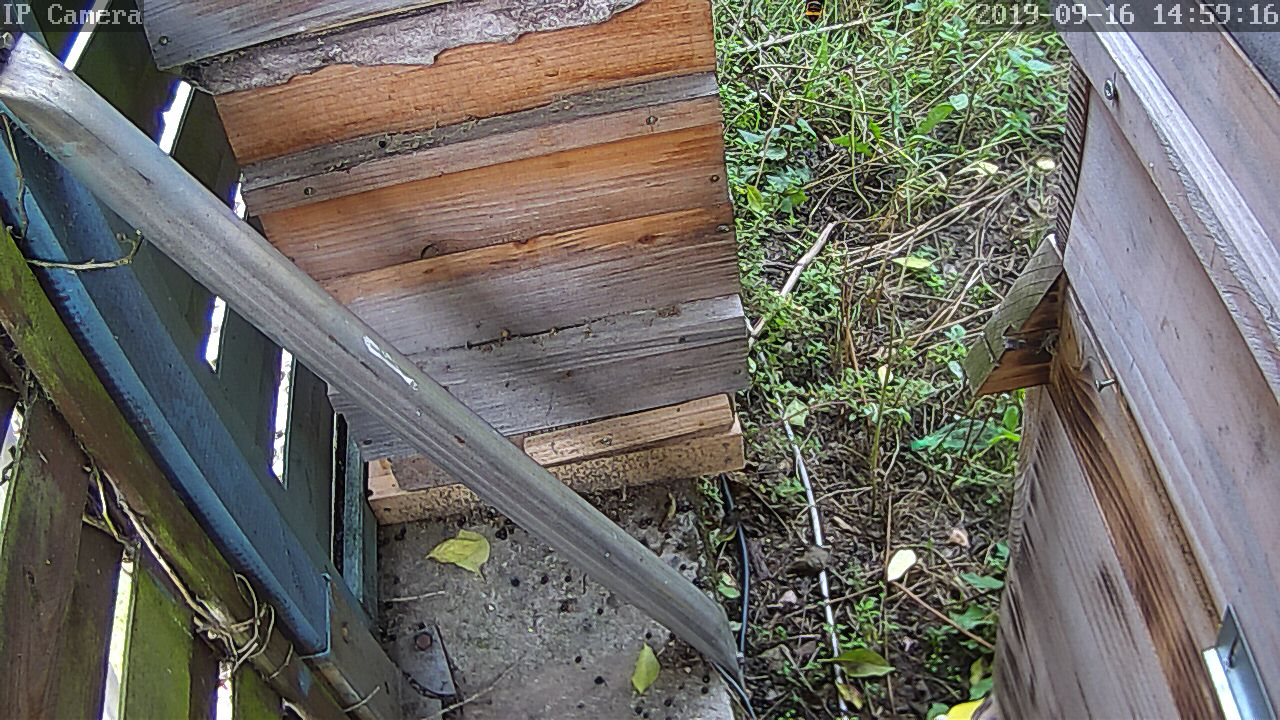hornet: (797, 1, 827, 25)
